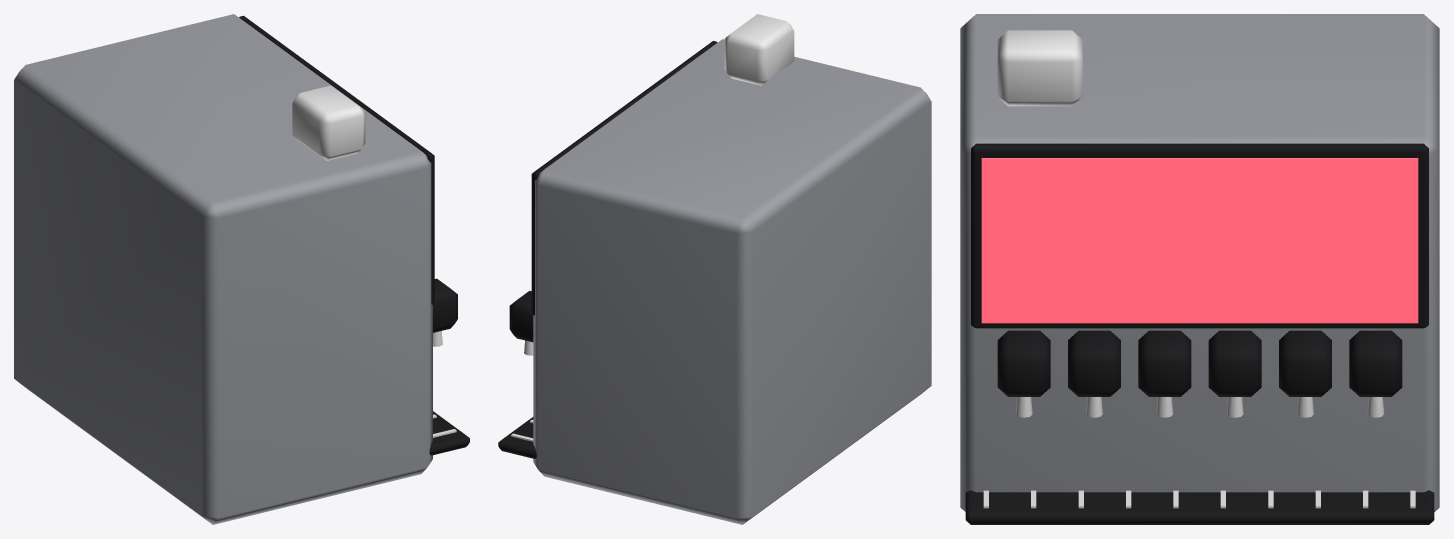
Rendered from drinks_fountain.glb.
The picture shows the model from 3 angles, left to right: view 1: azimuth 30°, elevation 25°; view 2: azimuth 150°, elevation 25°; view 3: azimuth 270°, elevation 25°; orthographic projection. The views are drawn at different scales.
Visible parts, largest first — view 1: Mesh_Tower, Mesh_IceChute, Mesh_PanelFrame, Mesh_Valve5, Mesh_Tray; view 2: Mesh_Tower, Mesh_IceChute, Mesh_PanelFrame, Mesh_Valve0, Mesh_Tray; view 3: Mesh_Tower, Mesh_Panel, Mesh_Tray, Mesh_PanelFrame, Mesh_IceChute, Mesh_Valve2, Mesh_Valve3, Mesh_Valve0, Mesh_Valve5, Mesh_Valve1, Mesh_Valve4.
Boxes of the visible parts, <box> form: Mesh_Tower: <box>14,14,432,524</box>; Mesh_IceChute: <box>292,85,365,160</box>; Mesh_PanelFrame: <box>239,15,434,304</box>; Mesh_Valve5: <box>433,278,457,332</box>; Mesh_Tray: <box>429,411,469,455</box>; Mesh_Tower: <box>533,39,931,524</box>; Mesh_IceChute: <box>724,14,794,85</box>; Mesh_PanelFrame: <box>531,41,717,315</box>; Mesh_Valve0: <box>509,290,533,342</box>; Mesh_Tray: <box>498,417,536,458</box>; Mesh_Tower: <box>960,14,1439,511</box>; Mesh_Panel: <box>981,158,1418,323</box>; Mesh_Tray: <box>965,490,1434,524</box>; Mesh_PanelFrame: <box>971,143,1428,328</box>; Mesh_IceChute: <box>997,30,1082,106</box>; Mesh_Valve2: <box>1208,330,1261,396</box>; Mesh_Valve3: <box>1138,330,1191,396</box>; Mesh_Valve0: <box>1349,330,1402,396</box>; Mesh_Valve5: <box>997,330,1050,396</box>; Mesh_Valve1: <box>1279,330,1331,396</box>; Mesh_Valve4: <box>1068,330,1120,396</box>.
Size of the model in its own units: 0.7 by 0.92 by 0.9.
